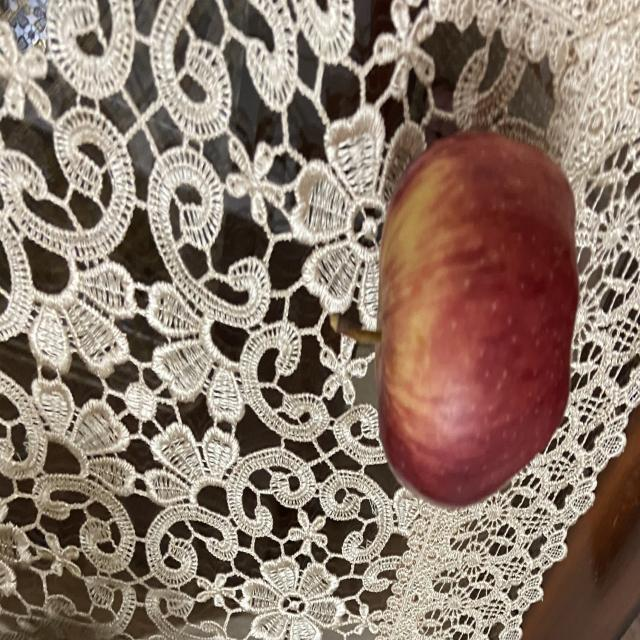apple: (328, 126, 582, 522)
